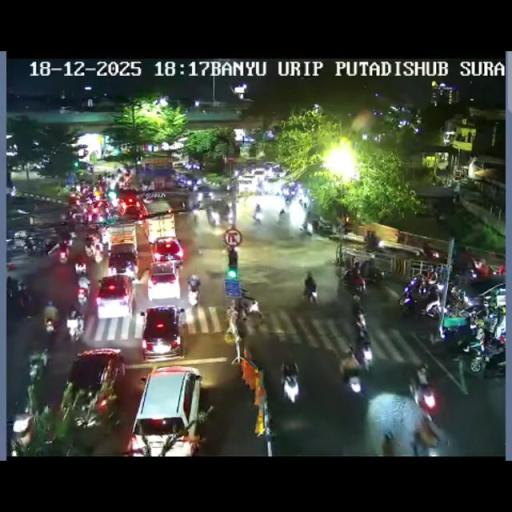Car: (128, 364, 202, 454), (64, 349, 126, 425), (139, 305, 185, 360), (95, 274, 136, 320), (146, 262, 182, 302), (107, 242, 139, 278), (150, 236, 184, 267), (9, 412, 34, 454), (117, 189, 146, 217), (312, 215, 336, 234), (174, 171, 198, 188), (250, 168, 266, 186), (194, 185, 214, 199), (238, 174, 254, 190), (265, 170, 280, 182), (262, 162, 278, 172)
Motorcycle: (250, 193, 312, 230), (398, 277, 442, 321), (462, 330, 505, 374), (411, 420, 442, 454), (410, 374, 436, 412), (338, 267, 366, 299), (352, 328, 373, 370), (340, 360, 362, 395), (482, 290, 506, 321), (446, 285, 470, 315), (28, 349, 49, 382), (242, 307, 262, 337), (350, 295, 366, 330), (281, 370, 299, 400), (66, 314, 84, 342), (76, 275, 91, 306), (16, 282, 32, 309), (454, 265, 470, 291), (363, 268, 383, 286), (102, 202, 120, 221), (382, 432, 396, 456), (6, 276, 20, 299), (303, 282, 317, 304), (24, 237, 40, 256), (238, 289, 256, 305), (187, 284, 200, 306), (58, 242, 70, 264), (74, 254, 86, 276), (298, 219, 311, 237), (44, 316, 56, 335), (424, 270, 438, 286), (70, 209, 83, 224), (209, 208, 220, 225), (177, 306, 186, 326), (335, 264, 346, 279), (84, 242, 94, 258), (93, 247, 103, 263), (252, 210, 262, 225), (191, 200, 201, 214), (342, 218, 352, 232), (226, 209, 234, 225), (102, 239, 110, 255), (276, 211, 285, 225), (256, 182, 264, 196), (299, 198, 308, 210), (85, 210, 94, 222), (196, 244, 203, 256), (284, 196, 292, 206), (180, 200, 186, 210)
